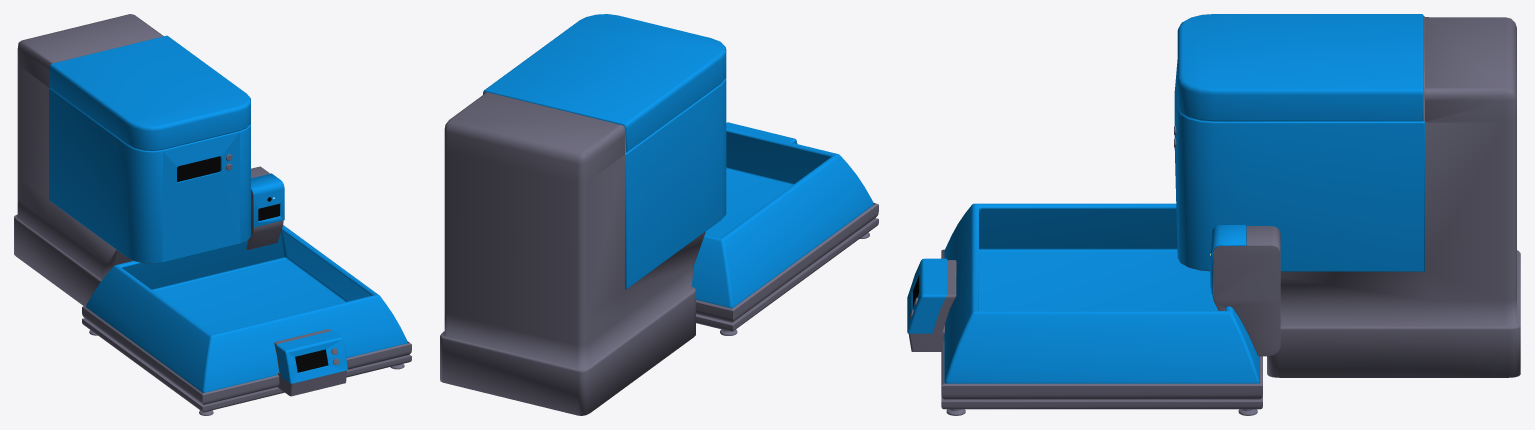
3 views of the same model, side by side, from view 1: azimuth 30°, elevation 25°; view 2: azimuth 150°, elevation 25°; view 3: azimuth 270°, elevation 25° (orthographic). The views are drawn at different scales.
Visible parts, largest first — view 1: feeder_9, bowl_5, scale_7, camera_8, base_6; view 2: feeder_9, bowl_5, scale_7, base_6; view 3: feeder_9, bowl_5, scale_7, camera_8, base_6.
Boxes of the visible parts, x1,y1,x2,y2 form: feeder_9: (14, 14, 250, 305); bowl_5: (86, 225, 407, 392); scale_7: (82, 305, 411, 404); camera_8: (246, 166, 284, 249); base_6: (82, 318, 411, 415); feeder_9: (440, 14, 726, 415); bowl_5: (691, 127, 873, 308); scale_7: (696, 122, 878, 322); base_6: (696, 218, 878, 335); feeder_9: (1174, 14, 1520, 377); bowl_5: (944, 203, 1259, 383); scale_7: (907, 249, 1262, 399); camera_8: (1210, 225, 1280, 356); base_6: (941, 395, 1262, 415).
Size of the model in its own units: 3.04 by 2.99 by 5.79.
